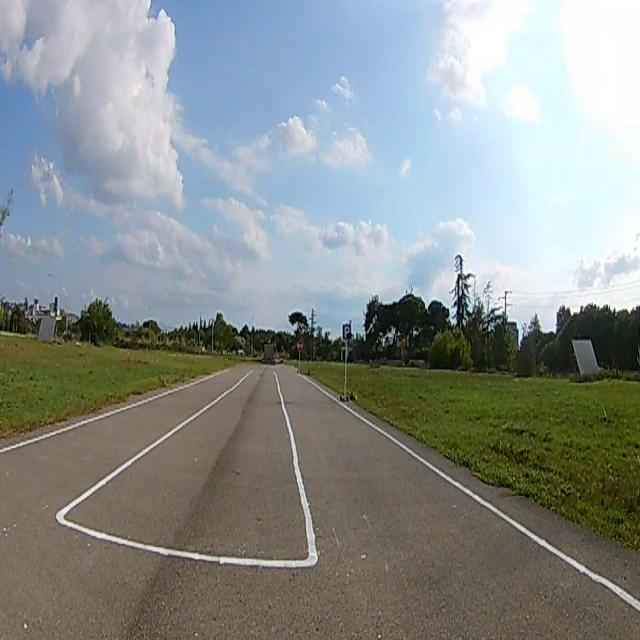park: (343, 324, 352, 339)
